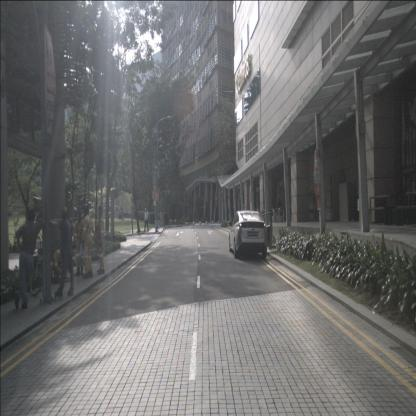human-pedestrian-adult: (14, 209, 46, 310), (50, 206, 74, 297), (80, 206, 94, 278), (74, 209, 86, 276), (96, 206, 106, 275), (50, 245, 66, 283), (143, 208, 149, 233)
vehicle-bicycle: (29, 235, 56, 297), (5, 235, 21, 254)
vehicle-car: (228, 210, 274, 259)
